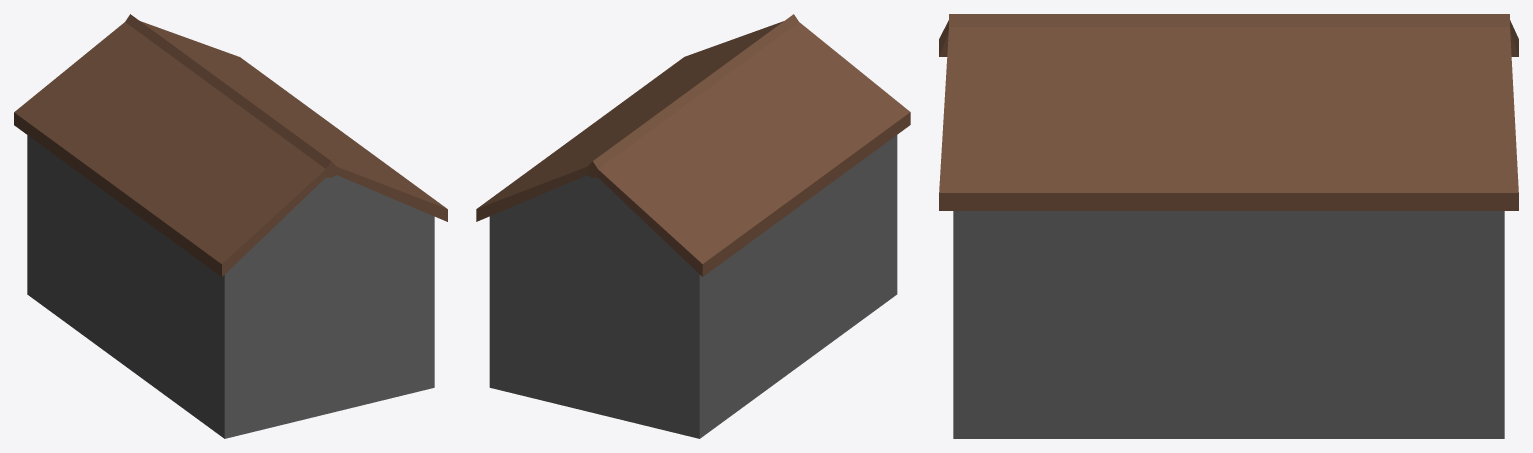
Rendered from Room07.fbx.
3 renders of one model, left to right at view 1: azimuth 30°, elevation 25°; view 2: azimuth 150°, elevation 25°; view 3: azimuth 270°, elevation 25°, orthographic. The views are drawn at different scales.
Parts seen in each view (by area): view 1: Room07; view 2: Room07; view 3: Room07.
Part boxes in pixels (bbox=[...]): Room07: bbox=[14, 14, 447, 438]; Room07: bbox=[476, 14, 910, 438]; Room07: bbox=[939, 14, 1518, 438].
Bounding box in the file's own units: 330 × 354 × 526.
